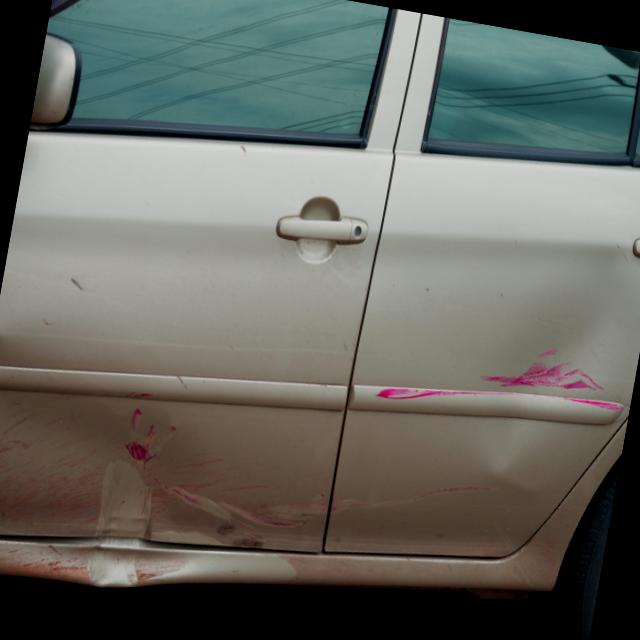Cabossage: (27, 445, 214, 611), (0, 323, 123, 489), (477, 321, 583, 489)
Rayure: (0, 427, 337, 578), (372, 318, 635, 448), (404, 463, 505, 522), (108, 399, 179, 467)
